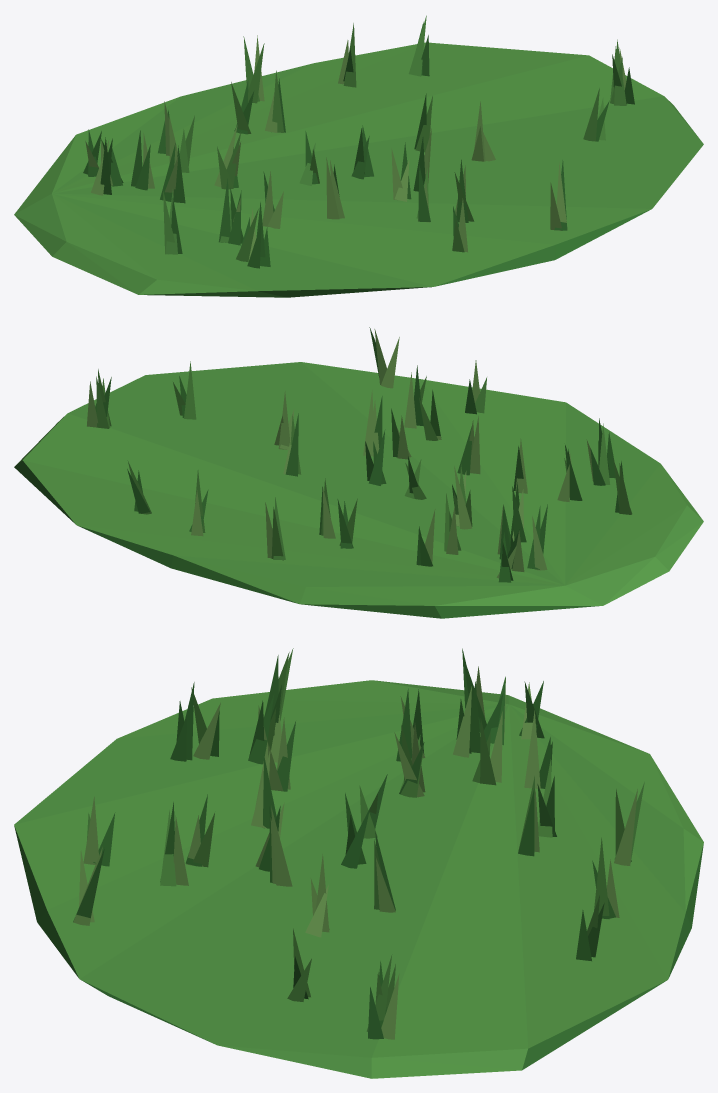
The model's file is meadow.glb.
3 renders of one model, top to bottom at view 1: azimuth 30°, elevation 25°; view 2: azimuth 150°, elevation 25°; view 3: azimuth 270°, elevation 25°, orthographic. The views are drawn at different scales.
Parts seen in each view (by area): view 1: base; view 2: base; view 3: base.
Boxes of the visible parts, box(x1,y1,x2,y2) form: base: box(14, 15, 703, 297); base: box(14, 327, 703, 618); base: box(14, 648, 703, 1078).
Size of the model in its own units: 1.13 by 0.1298 by 0.8404.
